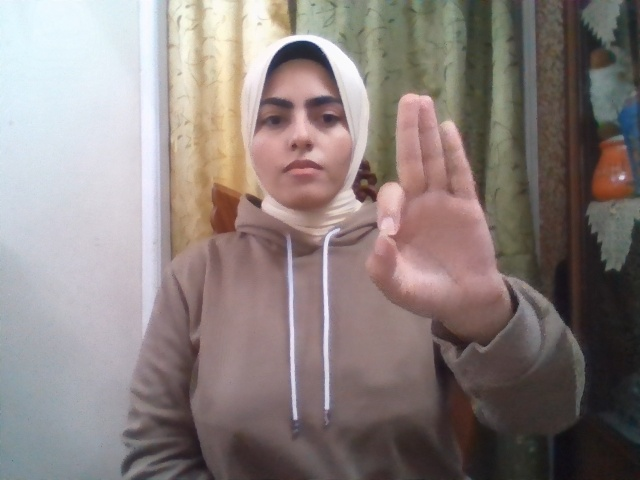F: (366, 94, 505, 322)
